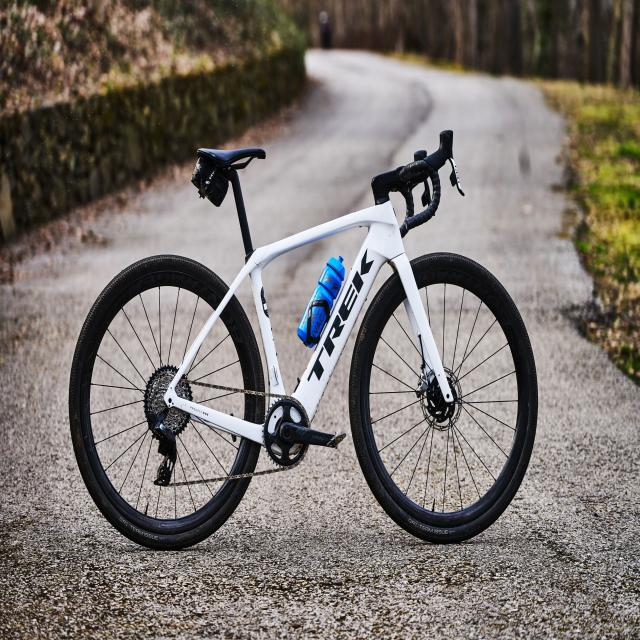road-bike: (67, 126, 540, 545)
